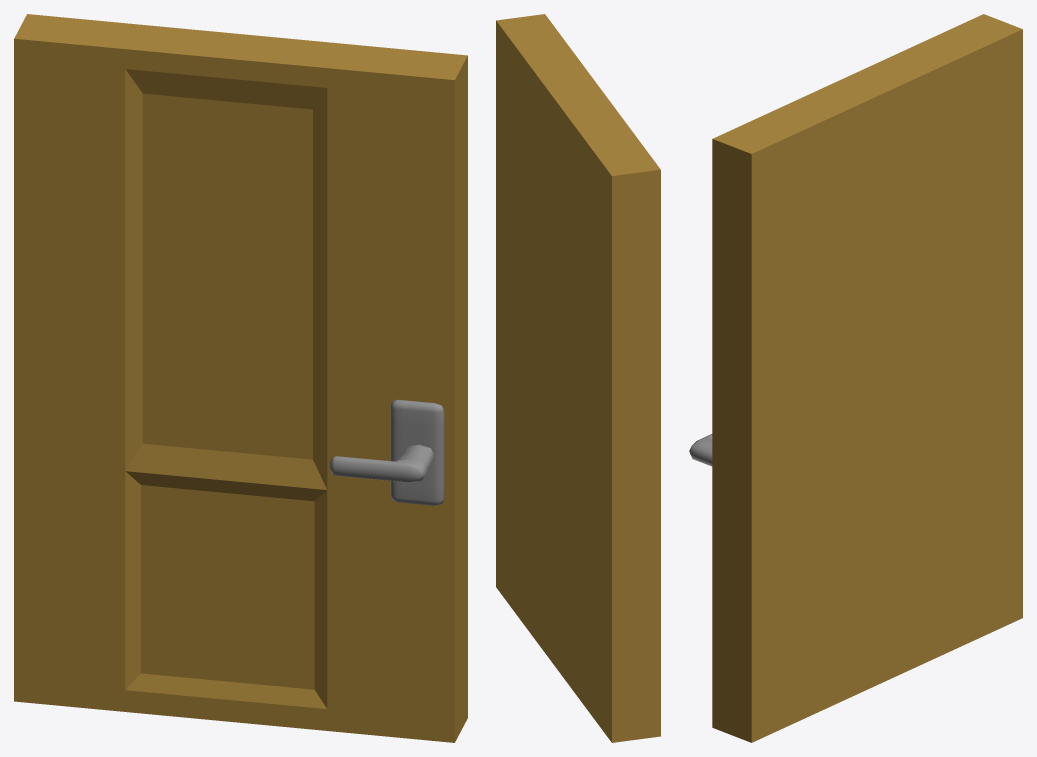
The model's file is door_3.fbx.
3 views of the same model, side by side, from view 1: azimuth 30°, elevation 25°; view 2: azimuth 150°, elevation 25°; view 3: azimuth 270°, elevation 25° (orthographic). The views are drawn at different scales.
Parts seen in each view (by area): view 1: door5_pCube53; view 2: door5_pCube53; view 3: door5_pCube53.
Boxes of the visible parts, x1,y1,x2,y2 form: door5_pCube53: [14, 14, 467, 742]; door5_pCube53: [496, 14, 660, 742]; door5_pCube53: [689, 14, 1022, 742].
Size of the model in its own units: 12.08 by 23.67 by 12.16.
